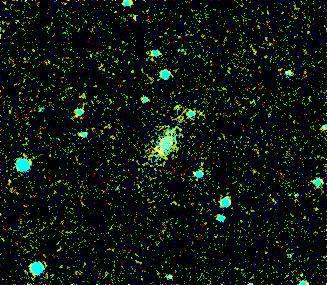star: (146, 138, 176, 168)
